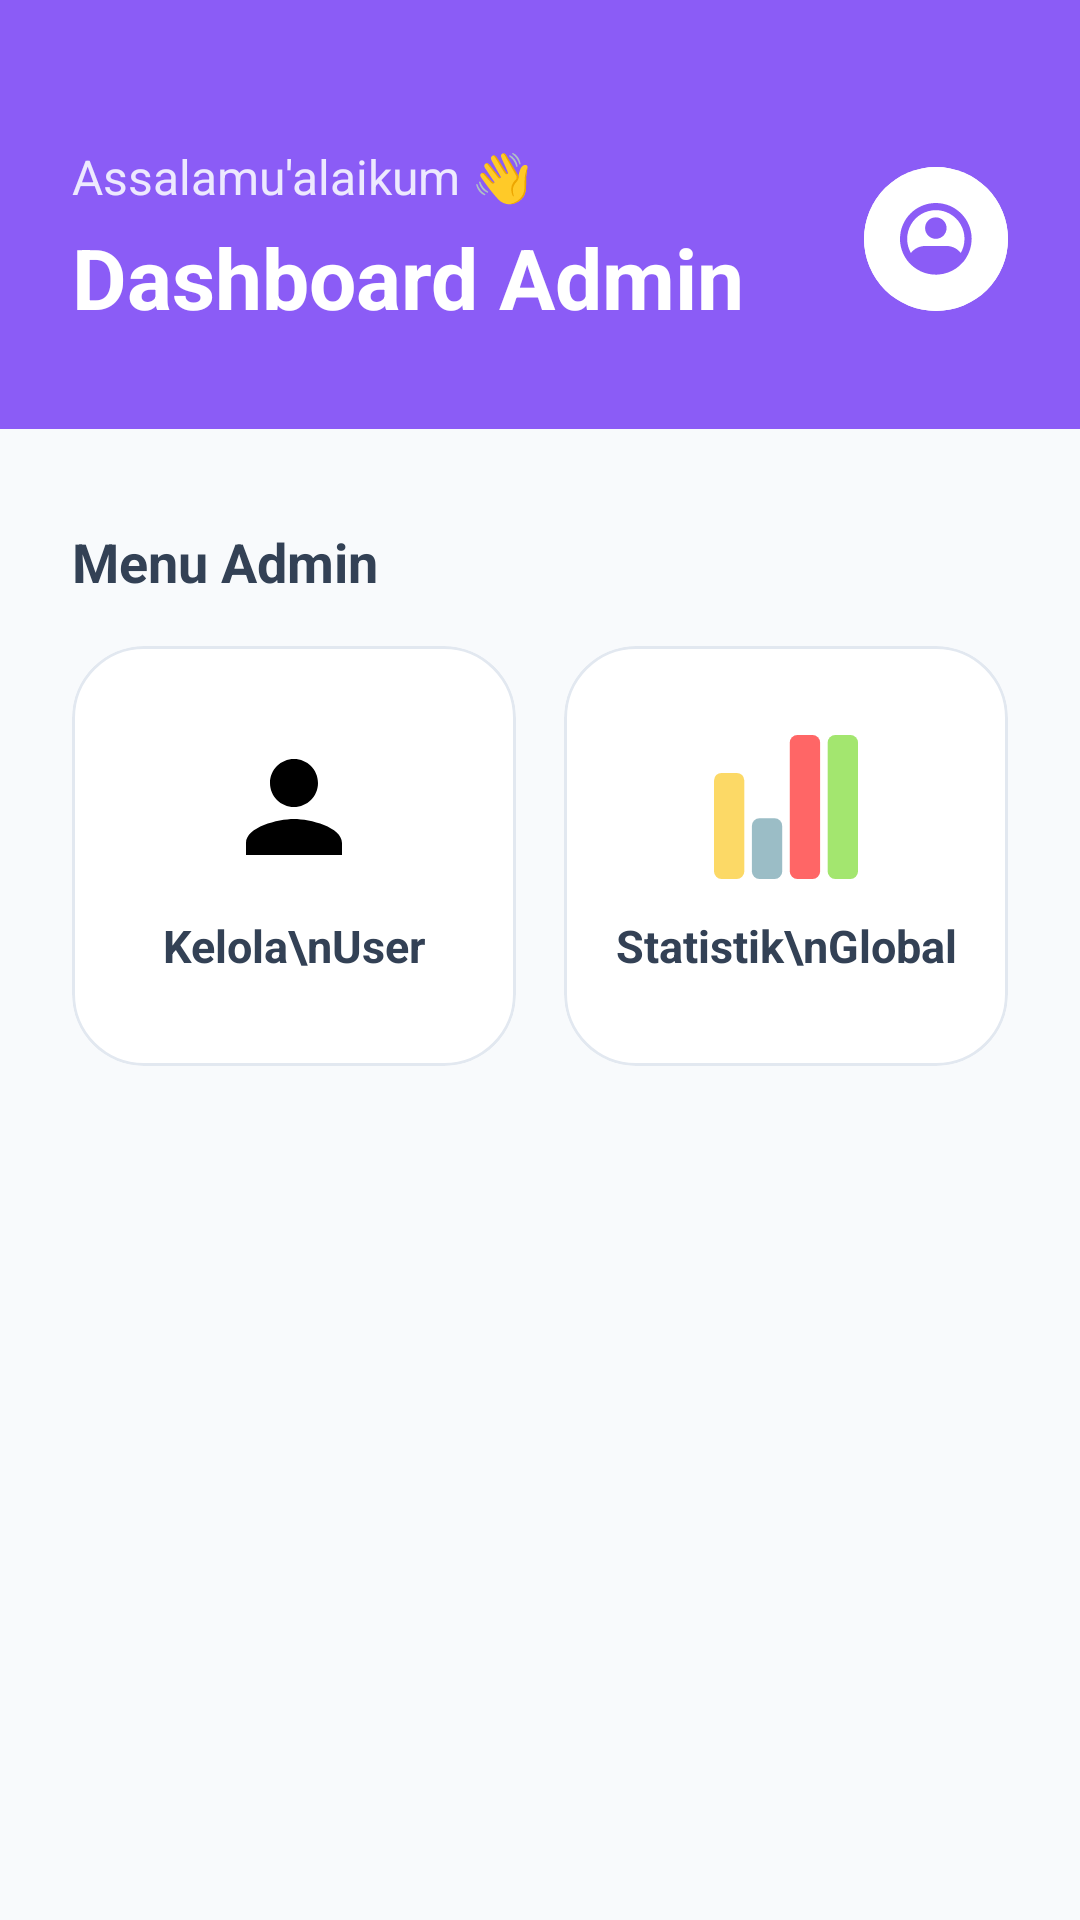

Locate icon controls on the screen. Image size 1080px x 1920px, boxes as detection(x1, y1, x2, y2).
profil: detection(864, 167, 1008, 311)
